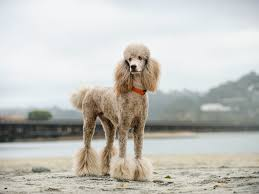Bulldog: (43, 27, 193, 190)
